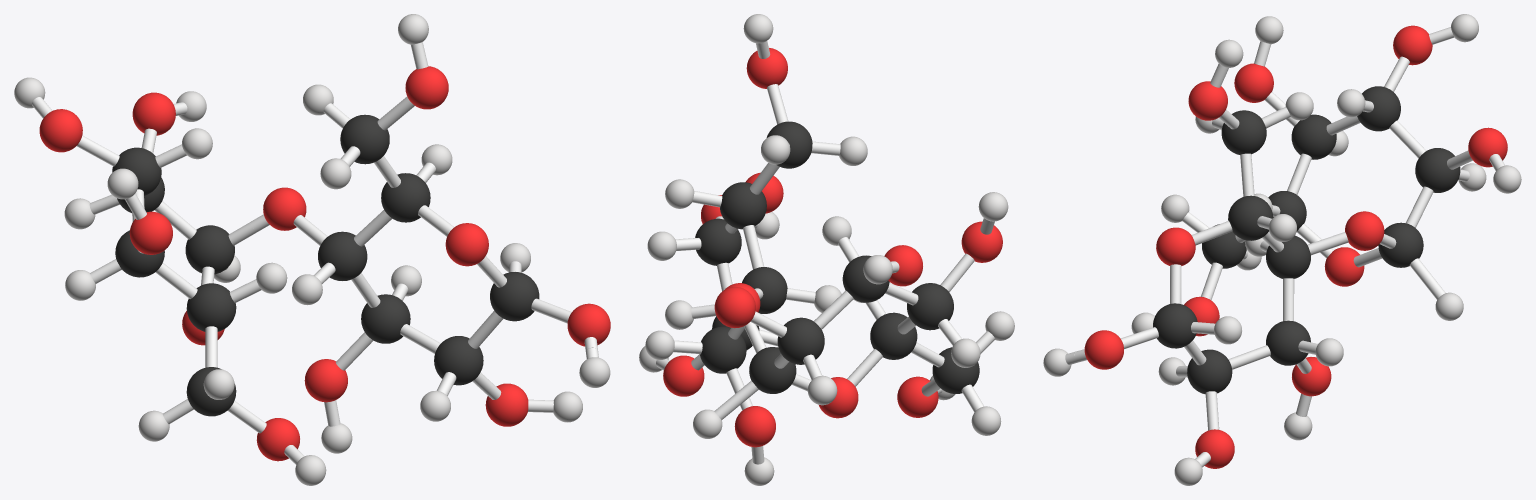
The model's file is mayatang.fbx.
3 renders of one model, left to right at view 1: azimuth 30°, elevation 25°; view 2: azimuth 150°, elevation 25°; view 3: azimuth 270°, elevation 25°, orthographic. The views are drawn at different scales.
Visible parts, largest first — view 1: 对象055, 对象088, 对象012, 对象045, 对象013, 对象010, 对象011, 对象009, 对象053, 对象005, 对象004, 对象007 (+30 smaller); view 2: 对象010, 对象012, 对象058, 对象056, 对象045, 对象055, 对象088, 对象052, 对象007, 对象011, 对象006, 对象057 (+36 smaller); view 3: 对象045, 对象056, 对象058, 对象012, 对象013, 对象009, 对象010, 对象088, 对象011, 对象057, 对象048, 对象008 (+30 smaller).
Part boxes in pixels (x1,y1,x2,y2): 对象055: [186, 283, 236, 331]; 对象088: [185, 225, 234, 274]; 对象012: [361, 294, 410, 343]; 对象045: [490, 272, 539, 321]; 对象013: [434, 336, 483, 385]; 对象010: [381, 173, 430, 222]; 对象011: [318, 231, 367, 280]; 对象009: [340, 114, 389, 164]; 对象053: [39, 109, 82, 152]; 对象005: [445, 223, 488, 266]; 对象004: [405, 66, 448, 109]; 对象007: [304, 359, 347, 402]; 对象010: [720, 182, 766, 229]; 对象012: [699, 326, 746, 373]; 对象058: [777, 317, 824, 364]; 对象056: [907, 283, 953, 330]; 对象045: [695, 218, 741, 265]; 对象055: [870, 312, 917, 359]; 对象088: [749, 347, 796, 393]; 对象052: [714, 287, 755, 328]; 对象007: [734, 406, 775, 447]; 对象011: [742, 267, 787, 313]; 对象006: [663, 355, 704, 396]; 对象057: [842, 255, 889, 302]; 对象045: [1153, 303, 1197, 348]; 对象056: [1291, 114, 1336, 159]; 对象058: [1415, 148, 1460, 192]; 对象012: [1266, 320, 1310, 365]; 对象013: [1187, 349, 1232, 394]; 对象009: [1221, 110, 1266, 154]; 对象010: [1228, 195, 1273, 240]; 对象088: [1378, 222, 1423, 267]; 对象011: [1266, 235, 1310, 278]; 对象057: [1357, 86, 1400, 131]; 对象048: [1084, 330, 1123, 369]; 对象008: [1345, 211, 1384, 250].
Bounding box in the file's own units: 114 × 114 × 119.
1 material, 1 textured.
